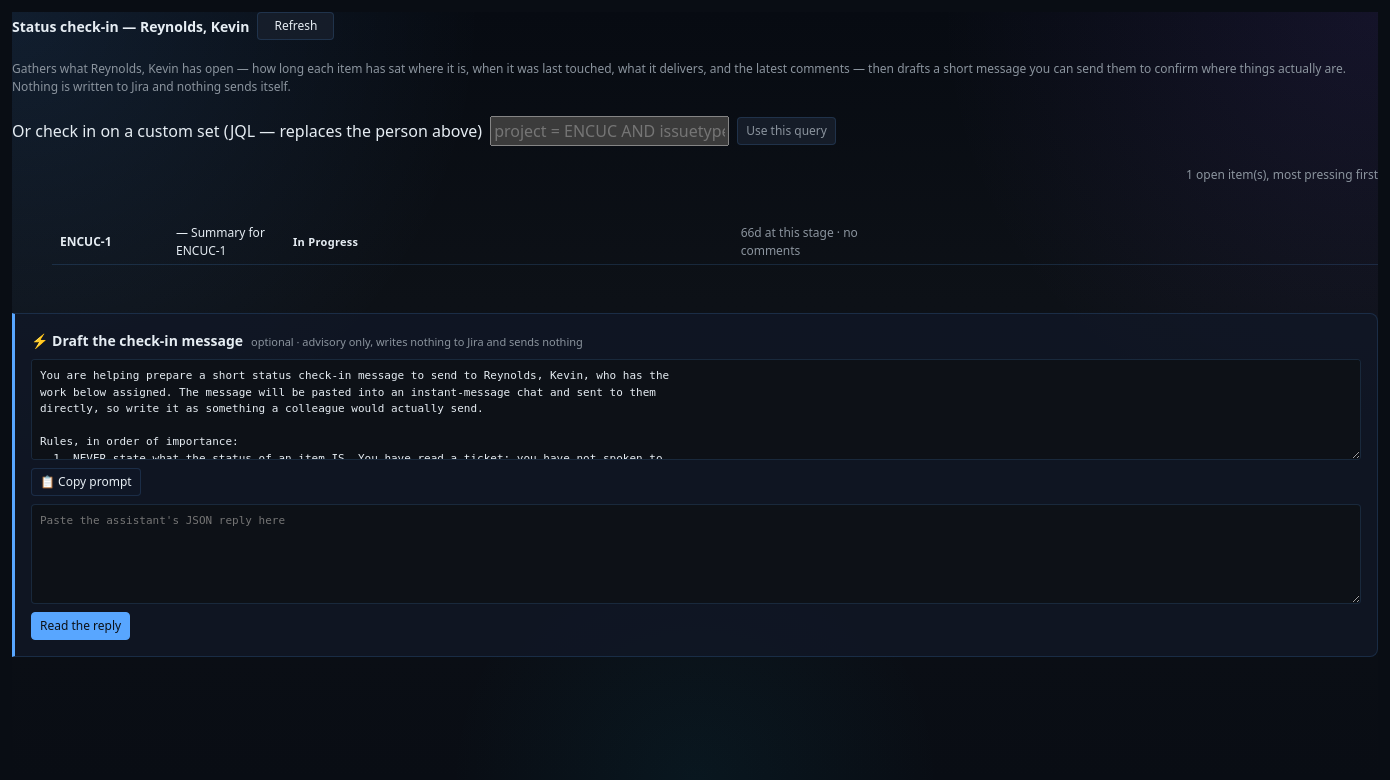
Test: CheckInTab › surfaces a reply it could not read instead of failing quietly
Expected: the list named "Work to check in on" is shown, top-left (12, 220), bottom-right (1378, 265)
Click the text box labelled "Paste the assistant's JSON reply here": (696, 554) top-left (31, 504), bottom-right (1361, 604)
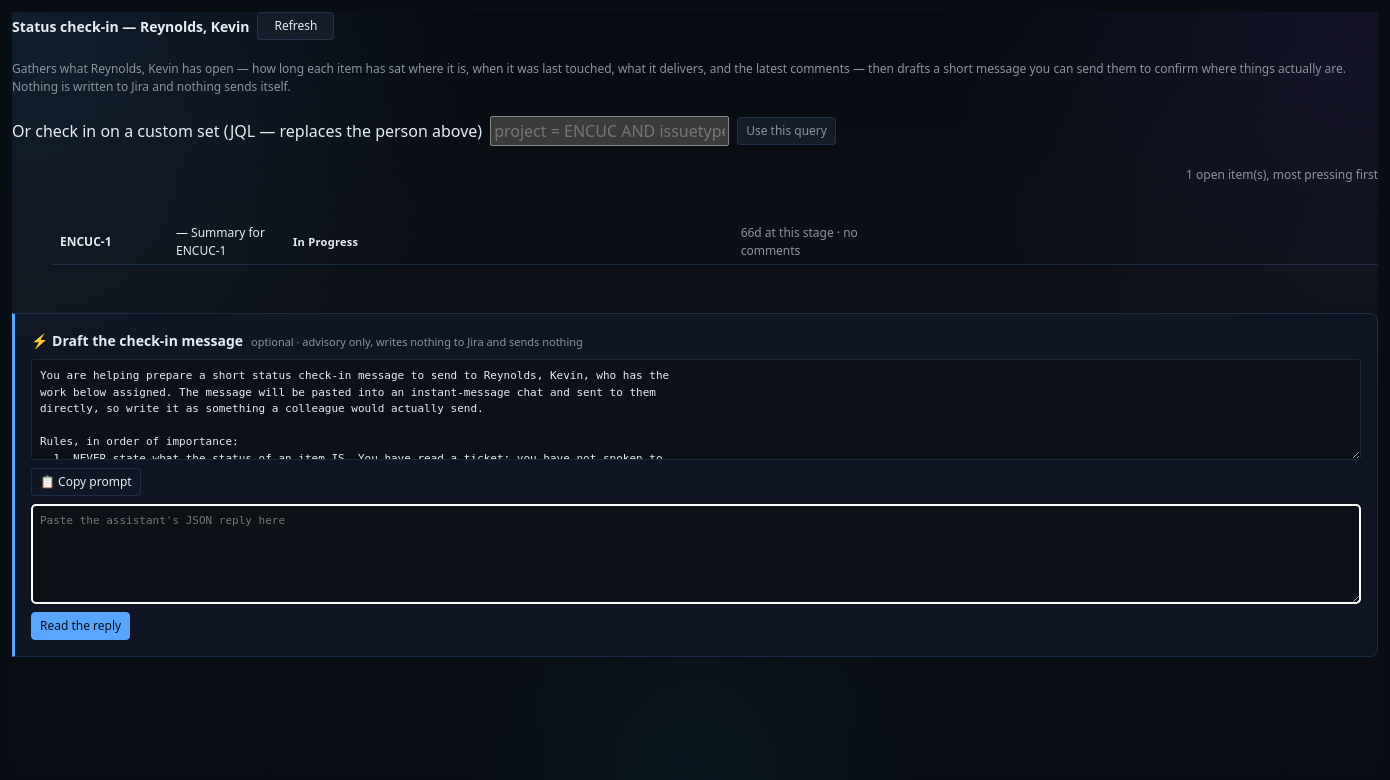
Type keys "I could not do that."
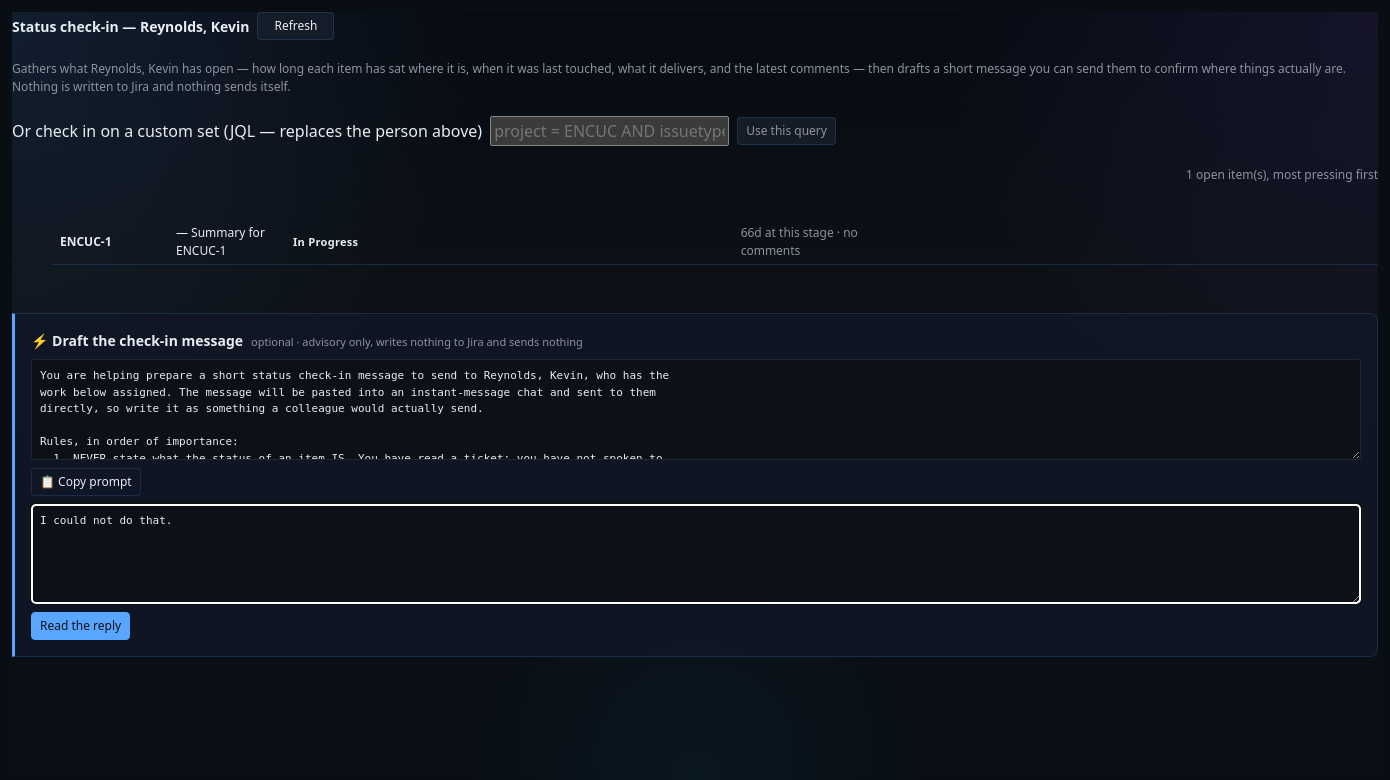
Click the button "Read the reply": (81, 626) top-left (31, 612), bottom-right (130, 640)
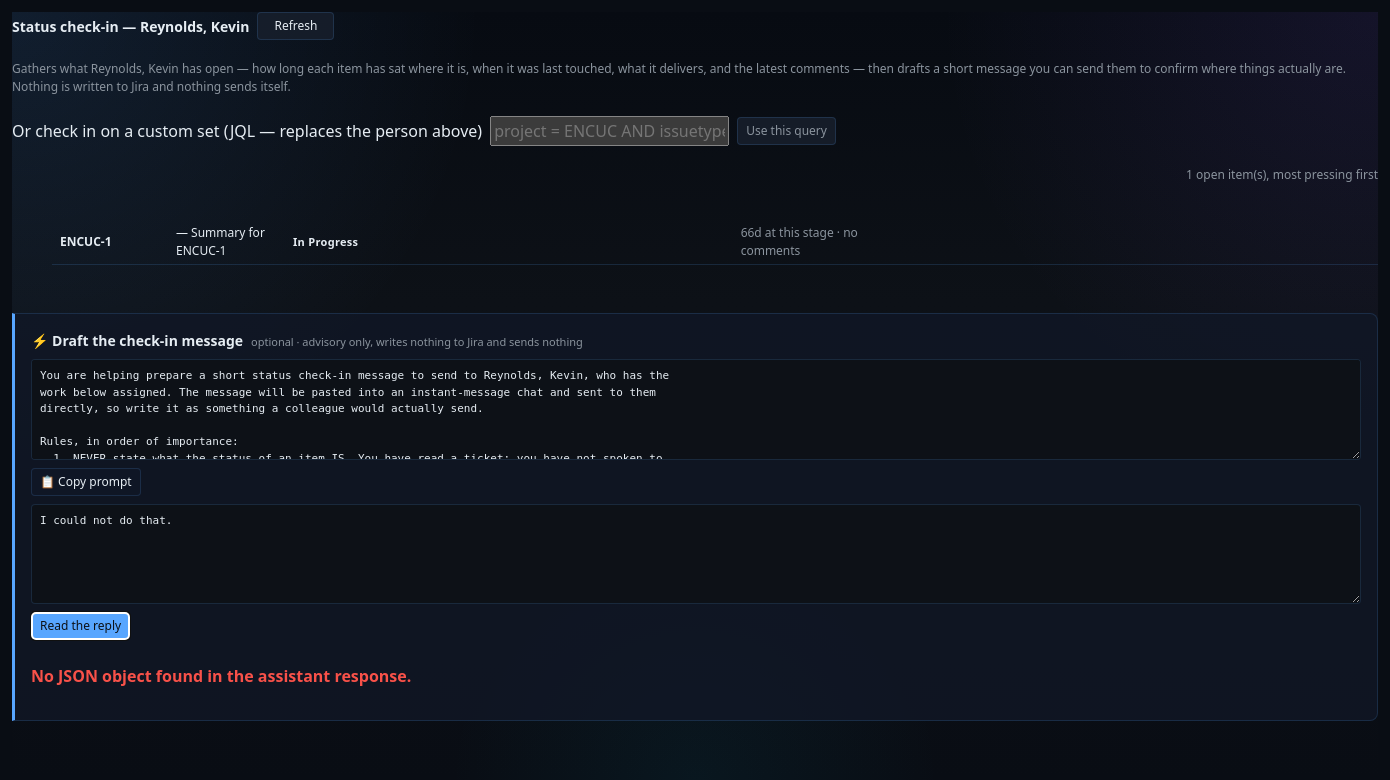
Expected: the message "No JSON object found in the assistant response." is shown, top-left (31, 665), bottom-right (411, 687)
